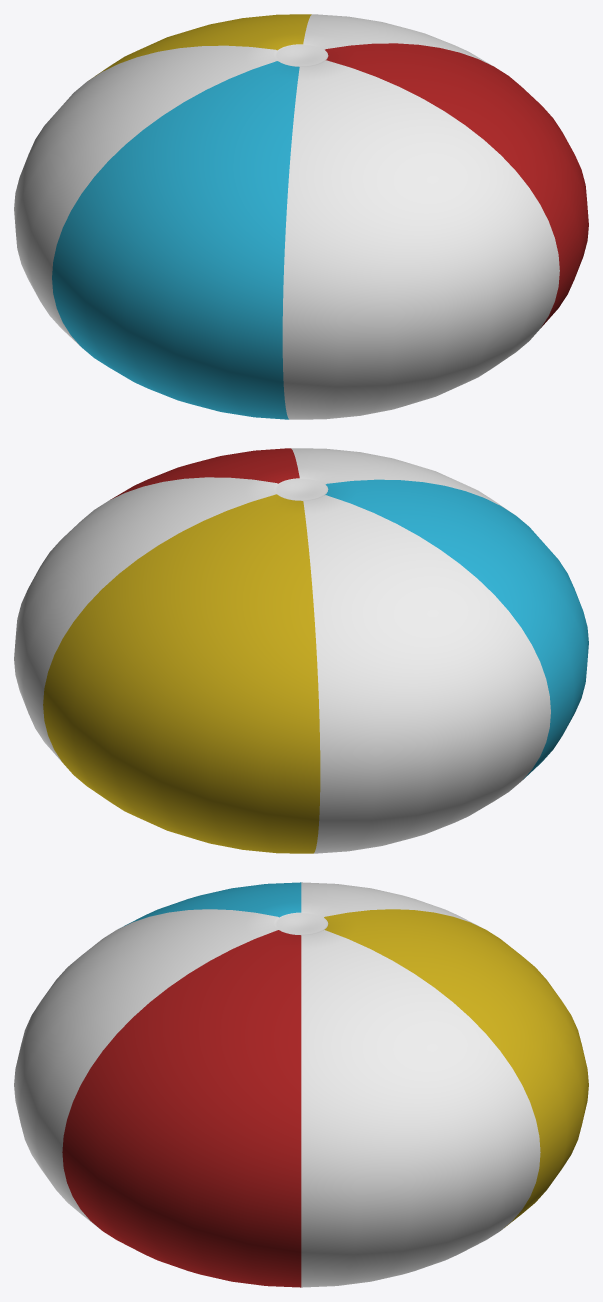
Rendered from Beach ball.fbx.
3 renders of one model, top to bottom at view 1: azimuth 30°, elevation 25°; view 2: azimuth 150°, elevation 25°; view 3: azimuth 270°, elevation 25°, orthographic.
Visible parts, largest first — view 1: Sphere_blue_0; view 2: Sphere_blue_0; view 3: Sphere_blue_0.
Boxes of the visible parts, <box> form: Sphere_blue_0: <box>14,14,588,419</box>; Sphere_blue_0: <box>14,448,588,853</box>; Sphere_blue_0: <box>14,882,588,1287</box>.
Bounding box in the file's own units: 200 × 124 × 200.
